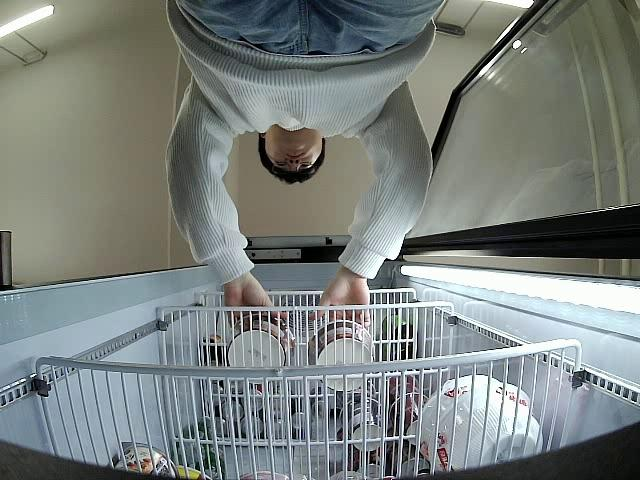00_hand: (224, 267, 291, 327), (314, 267, 370, 321)
05_nuguri_L: (307, 321, 374, 394), (224, 314, 291, 374)
